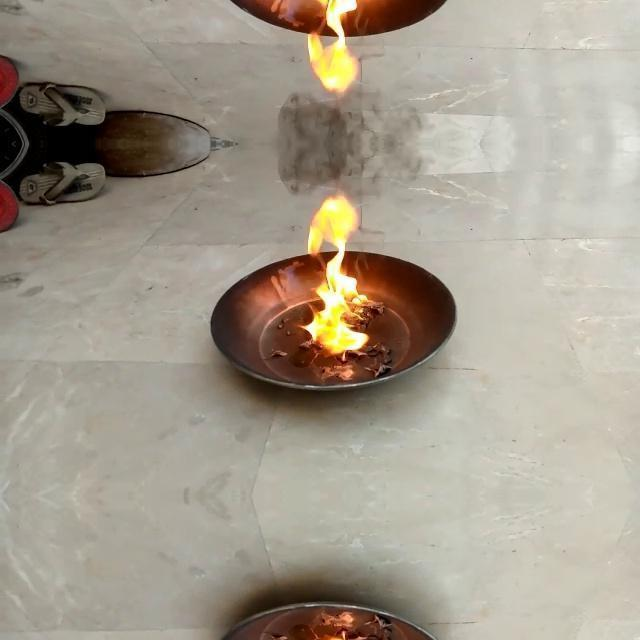fire: (279, 96, 424, 193)
smoke: (296, 194, 384, 358), (296, 0, 384, 94)
